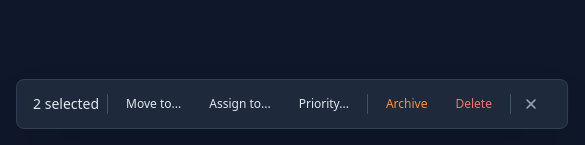
Scenario: BulkActionToolbar › shows assign dropdown with members
Step 1. Click the button "Assign to..." → (240, 104), box [199, 90, 281, 118]
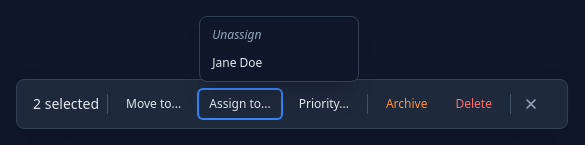
Expected: the menu item "Unassign" is shown, [200, 21, 358, 49]
Expected: the menu item "Jane Doe" is shown, [200, 49, 358, 77]
